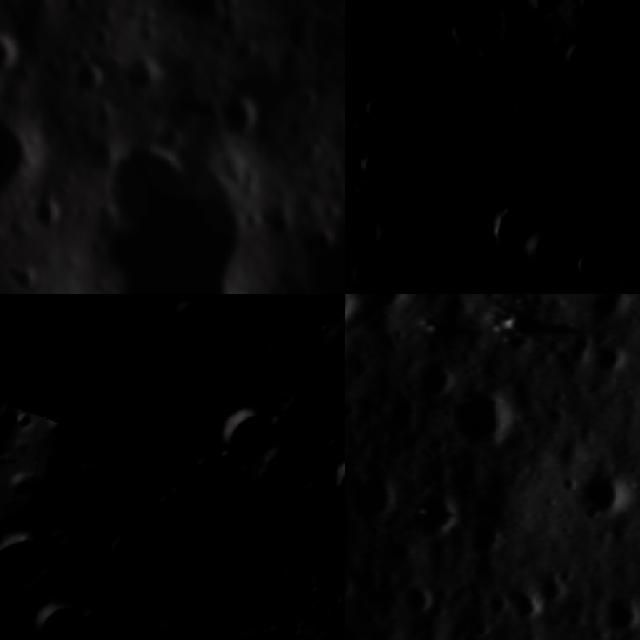crater: (93, 122, 275, 294), (535, 0, 640, 124), (418, 0, 542, 89), (195, 386, 295, 488), (491, 59, 582, 150), (466, 178, 556, 270), (288, 299, 345, 428), (0, 511, 68, 614), (345, 178, 404, 287), (440, 370, 522, 448), (139, 474, 217, 550), (561, 454, 640, 526), (398, 472, 476, 543), (60, 448, 127, 522), (20, 581, 100, 640), (345, 460, 411, 527), (405, 343, 467, 407), (88, 523, 150, 585), (527, 552, 589, 612), (103, 394, 164, 454), (0, 385, 32, 498), (138, 434, 195, 496), (562, 238, 624, 294), (31, 397, 88, 456), (497, 0, 597, 33), (154, 294, 215, 345), (0, 120, 37, 200), (281, 464, 334, 518), (108, 356, 159, 409), (459, 513, 512, 562), (503, 579, 554, 628), (589, 332, 640, 381), (597, 580, 640, 638), (576, 294, 640, 331), (218, 85, 266, 133), (125, 564, 171, 612), (321, 435, 345, 514), (395, 574, 436, 618), (345, 294, 419, 317), (123, 342, 164, 382), (130, 53, 170, 91), (74, 59, 116, 93), (0, 29, 24, 80), (306, 0, 345, 26), (108, 294, 147, 313), (380, 627, 426, 640)
